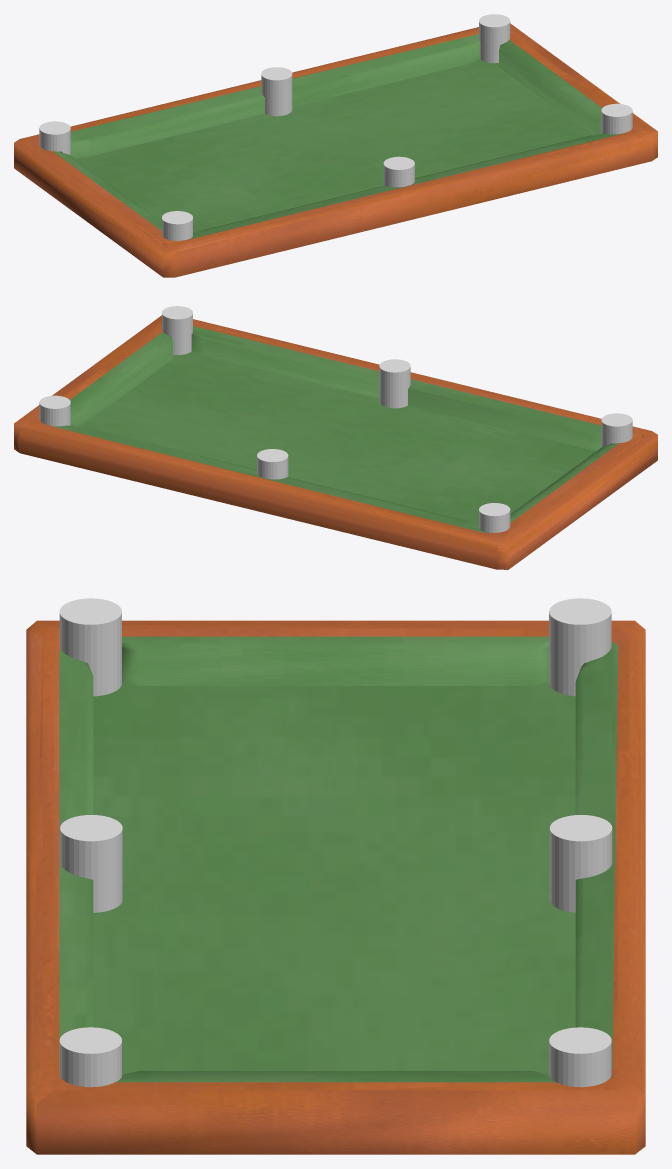
Rendered from tableel.glb.
The picture shows the model from 3 angles, top to bottom: view 1: azimuth 30°, elevation 25°; view 2: azimuth 150°, elevation 25°; view 3: azimuth 270°, elevation 25°; orthographic projection. The views are drawn at different scales.
Parts seen in each view (by area): view 1: Cube, Cylinder; view 2: Cube, Cylinder; view 3: Cube, Cylinder.
Part boxes in pixels (<box>): Cube: <box>14,23,657,277</box>; Cylinder: <box>39,14,632,240</box>; Cube: <box>14,315,657,569</box>; Cylinder: <box>39,306,632,532</box>; Cube: <box>26,620,645,1154</box>; Cylinder: <box>59,598,612,1087</box>.
Bounding box in the file's own units: 4.33 × 0.3647 × 2.35.
1 material, 1 textured.
